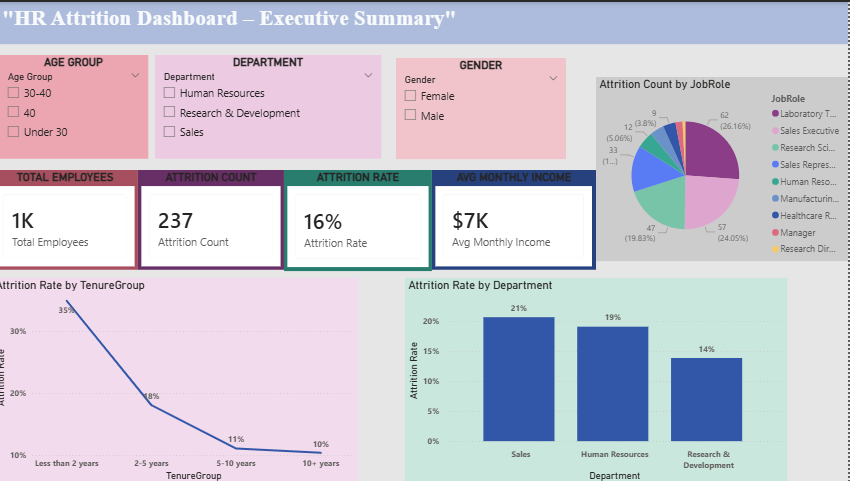

The dashboard page shown, as its layout file describes it:
{"tool":"powerbi","page":{"name":"Executive Summary","canvas":[1280,720],"ordinal":0},"visuals":[{"type":"textbox","box":[10.5,0,1269.7,62.7],"z":0},{"type":"cardVisual","title":"TOTAL EMPLOYEES","fields":{"Data":["EmployeeFacts.Total Employees"]},"box":[0,251,218.1,149.4],"z":1},{"type":"cardVisual","title":"ATTRITION COUNT","fields":{"Data":["EmployeeFacts.Attrition Count"]},"box":[218.1,251,218.1,149.4],"z":2},{"type":"cardVisual","title":"ATTRITION RATE","fields":{"Data":["EmployeeFacts.Attrition Rate"]},"box":[436.2,251,221.1,150.9],"z":3},{"type":"cardVisual","title":"AVG MONTHLY INCOME","fields":{"Data":["EmployeeFacts.Avg Monthly Income"]},"box":[657.3,251,245,149.4],"z":4},{"type":"lineChart","fields":{"Category":["EmployeeFacts.TenureGroup"],"Y":["EmployeeFacts.Attrition Rate"]},"box":[0,412.3,546.7,307.7],"z":5},{"type":"clusteredColumnChart","fields":{"Category":["Dim_Department.Department"],"Y":["EmployeeFacts.Attrition Rate"]},"box":[616.9,412.3,570.6,307.7],"z":6},{"type":"slicer","title":"DEPARTMENT","fields":{"Values":["Dim_Department.Department"]},"box":[243.5,79.2,337.6,155.4],"z":7},{"type":"slicer","title":"AGE GROUP","fields":{"Values":["EmployeeFacts.Age Group"]},"box":[10.5,79.2,222.6,155.4],"z":8},{"type":"slicer","title":"GENDER","fields":{"Values":["EmployeeFacts.Gender"]},"box":[603.5,83.7,253.9,150.9],"z":9},{"type":"pieChart","fields":{"Category":["Dim_JobRole.JobRole"],"Y":["EmployeeFacts.Attrition Count"]},"box":[902.2,112,377.9,274.9],"z":10}]}

Visuals, with their boxes in screenshot pixels (x1, y1, x2, y2), scaled from the page's 1280x720 canvas onto the 850x481 screenshot:
textbox: (7,0,849,42)
"TOTAL EMPLOYEES" cardVisual: (0,168,145,267)
"ATTRITION COUNT" cardVisual: (145,168,290,267)
"ATTRITION RATE" cardVisual: (290,168,436,268)
"AVG MONTHLY INCOME" cardVisual: (436,168,599,267)
lineChart - EmployeeFacts.TenureGroup x EmployeeFacts.Attrition Rate: (0,275,363,480)
clusteredColumnChart - Dim_Department.Department x EmployeeFacts.Attrition Rate: (410,275,789,480)
"DEPARTMENT" slicer: (162,53,386,157)
"AGE GROUP" slicer: (7,53,155,157)
"GENDER" slicer: (401,56,569,157)
pieChart - Dim_JobRole.JobRole x EmployeeFacts.Attrition Count: (599,75,849,258)
